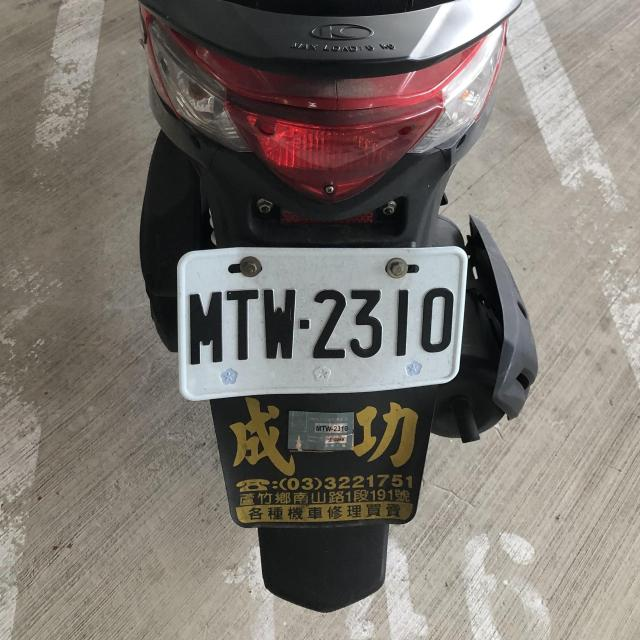W: (174, 243, 468, 398)
